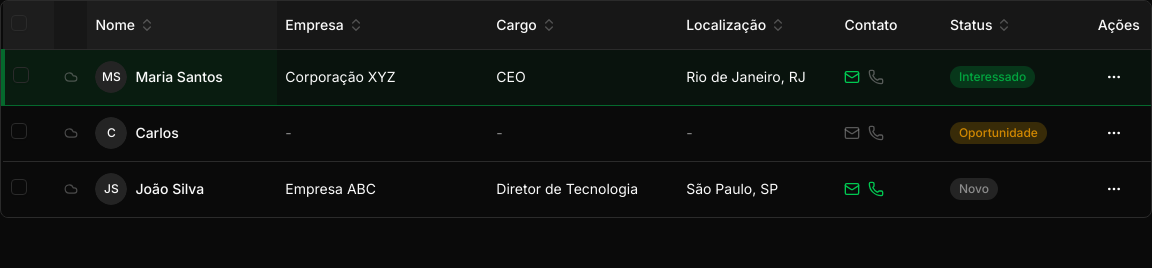
Test case: LeadTable › Individual Delete (Story 12.5) › AC#1: shows 'Excluir' option in row dropdown
Click the button with test id "row-actions-lead-1" at x=1114, y=189, box [1098, 173, 1130, 205]
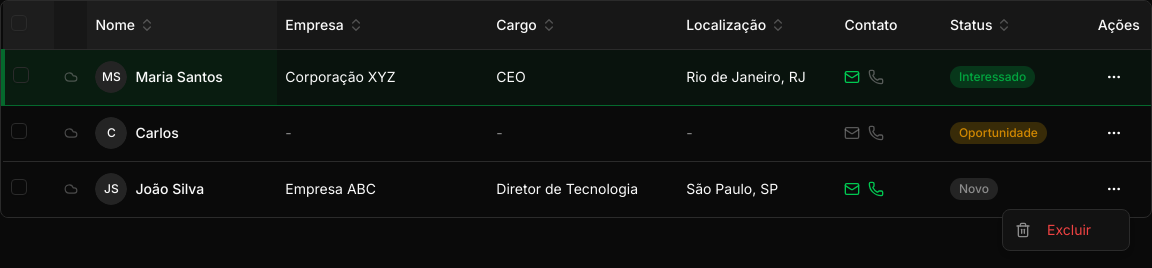
Now the menu item "Excluir" is shown, box [1015, 221, 1091, 238]
